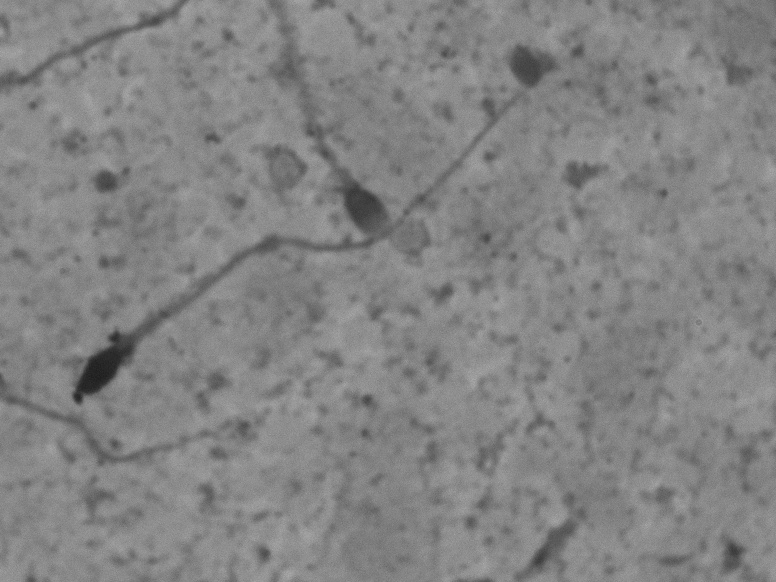Abnormal: (57, 59, 568, 416)
